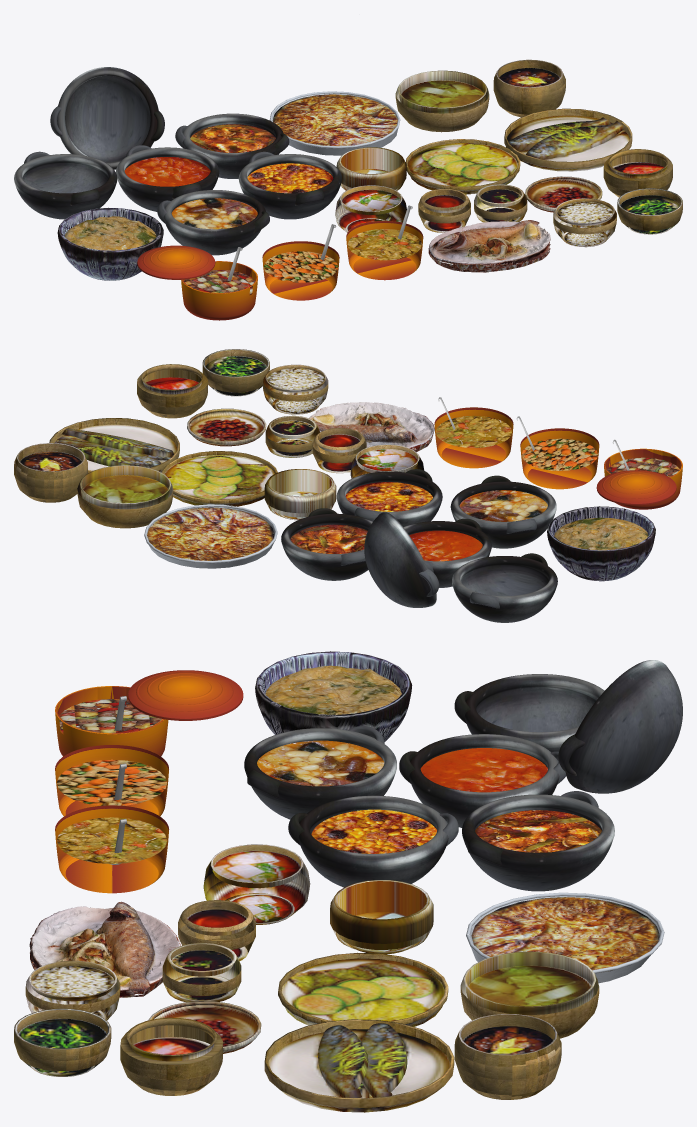
File: soup_props.glb
3 renders of one model, top to bottom at view 1: azimuth 30°, elevation 25°; view 2: azimuth 150°, elevation 25°; view 3: azimuth 270°, elevation 25°, orthographic. The views are drawn at different scales.
Visible parts, largest first — view 1: Material2 (×18), Material3 (×2); view 2: Material2 (×18), Material3 (×2); view 3: Material2 (×19), Material3 (×2).
Part boxes in pixels (x1,y1,x2,y2): Material2 (×18): [14, 60, 682, 320]; Material3 (×2): [335, 59, 682, 247]; Material2 (×18): [14, 350, 682, 622]; Material3 (×2): [17, 349, 424, 520]; Material2 (×19): [14, 651, 682, 1107]; Material3 (×2): [14, 844, 599, 1112].
Size of what is drawn, in the model's own units: 82.75 by 19.29 by 57.05.
Materials: 99 (99 with a texture image).
